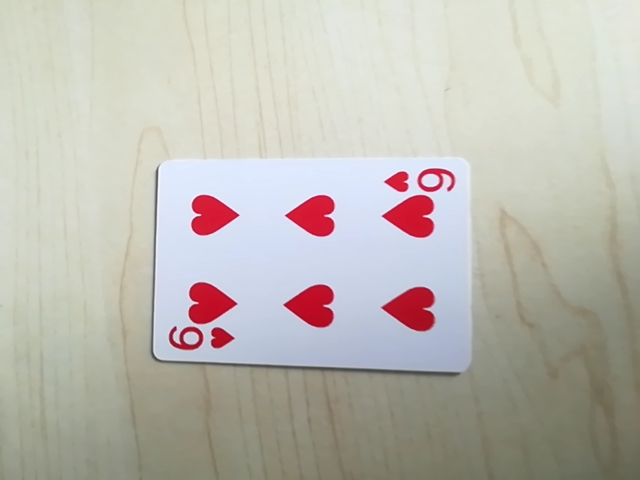hx 6: (383, 160, 459, 196), (163, 325, 236, 359)
